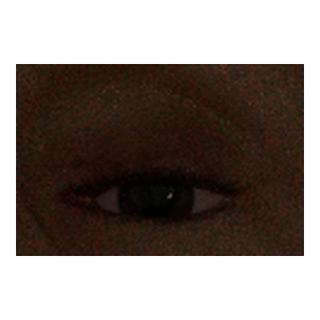pupil: (139, 182, 170, 213)
